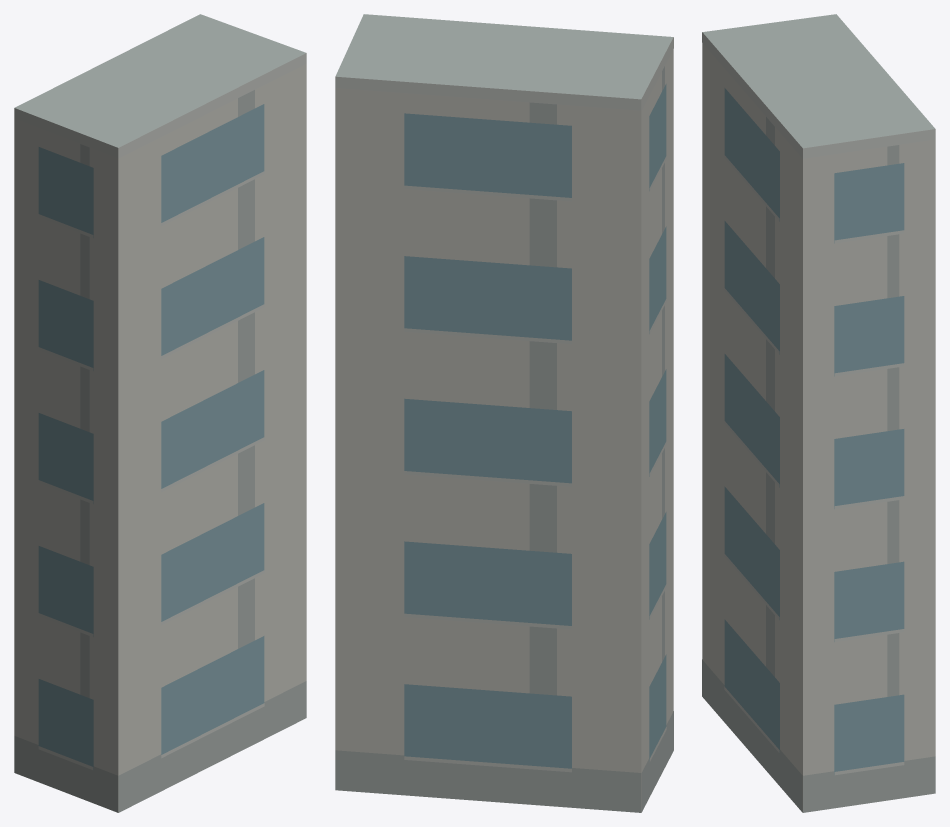
File: survey-upis-32645390.glb
The picture shows the model from 3 angles, left to right: view 1: azimuth 30°, elevation 25°; view 2: azimuth 150°, elevation 25°; view 3: azimuth 270°, elevation 25°; orthographic projection. The views are drawn at different scales.
Visible parts, largest first — view 1: survey-upis-32645390.tmp; view 2: survey-upis-32645390.tmp; view 3: survey-upis-32645390.tmp.
Boxes of the visible parts, x1=… form: survey-upis-32645390.tmp: x1=14, y1=14, x2=306, y2=812; survey-upis-32645390.tmp: x1=335, y1=14, x2=673, y2=812; survey-upis-32645390.tmp: x1=702, y1=14, x2=935, y2=812.
Bounding box in the file's own units: 6.62 × 15.25 × 4.86.
